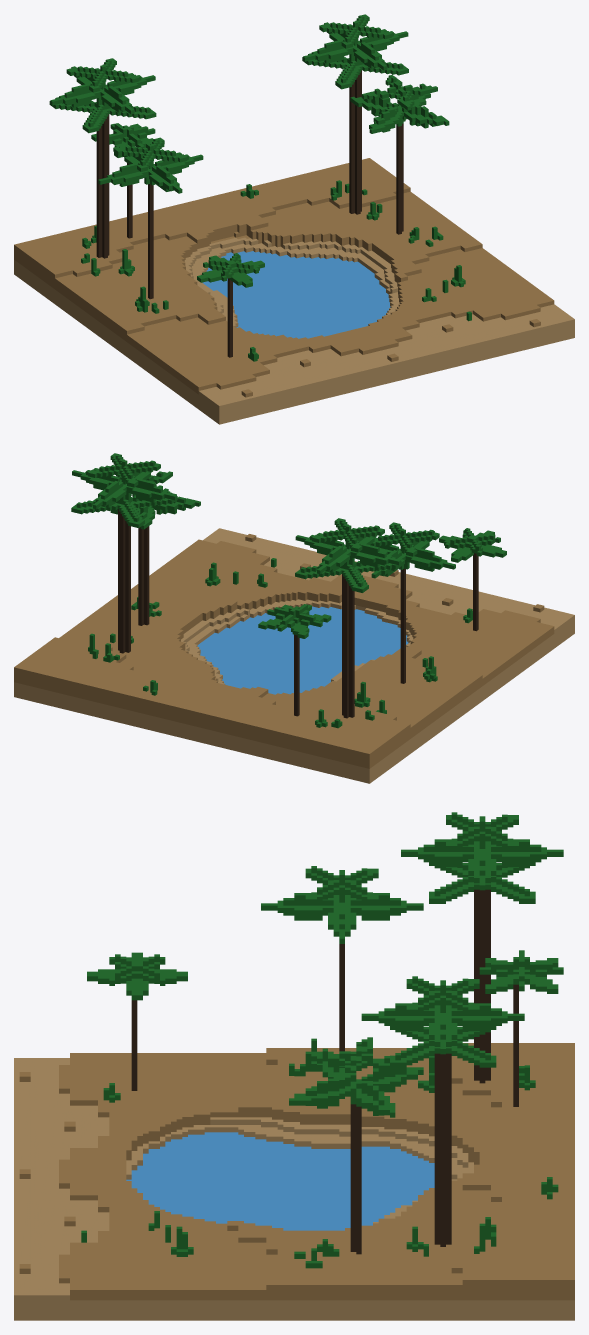
Rendered from Background_B_house_01.FBX.
The picture shows the model from 3 angles, top to bottom: view 1: azimuth 30°, elevation 25°; view 2: azimuth 150°, elevation 25°; view 3: azimuth 270°, elevation 25°; orthographic projection. The views are drawn at different scales.
Parts seen in each view (by area): view 1: floor-3; view 2: floor-3; view 3: floor-3.
Part boxes in pixels (x1,y1,x2,y2): floor-3: [14, 14, 574, 424]; floor-3: [14, 453, 574, 783]; floor-3: [14, 812, 574, 1320].
Bounding box in the file's own units: 10 × 5.9 × 10.
1 material, 1 textured.
